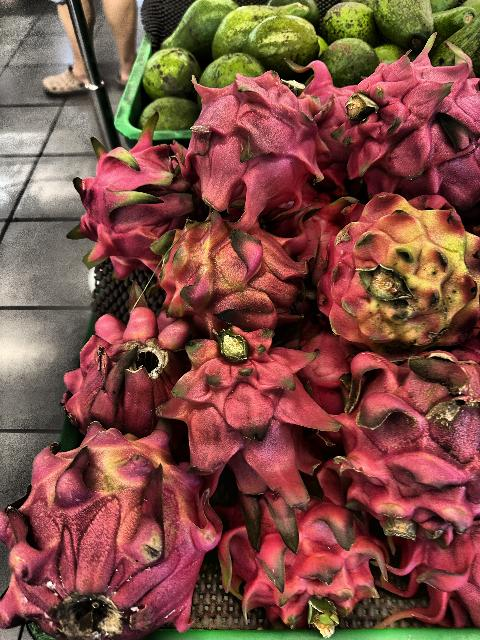buah-naga-belum-matang: (326, 202, 480, 346), (148, 219, 314, 335)
buah-naga-matang: (0, 452, 212, 636), (170, 326, 332, 512), (334, 338, 480, 534), (180, 66, 332, 226), (218, 492, 382, 624), (328, 60, 480, 198), (57, 120, 191, 268), (60, 302, 182, 446)
